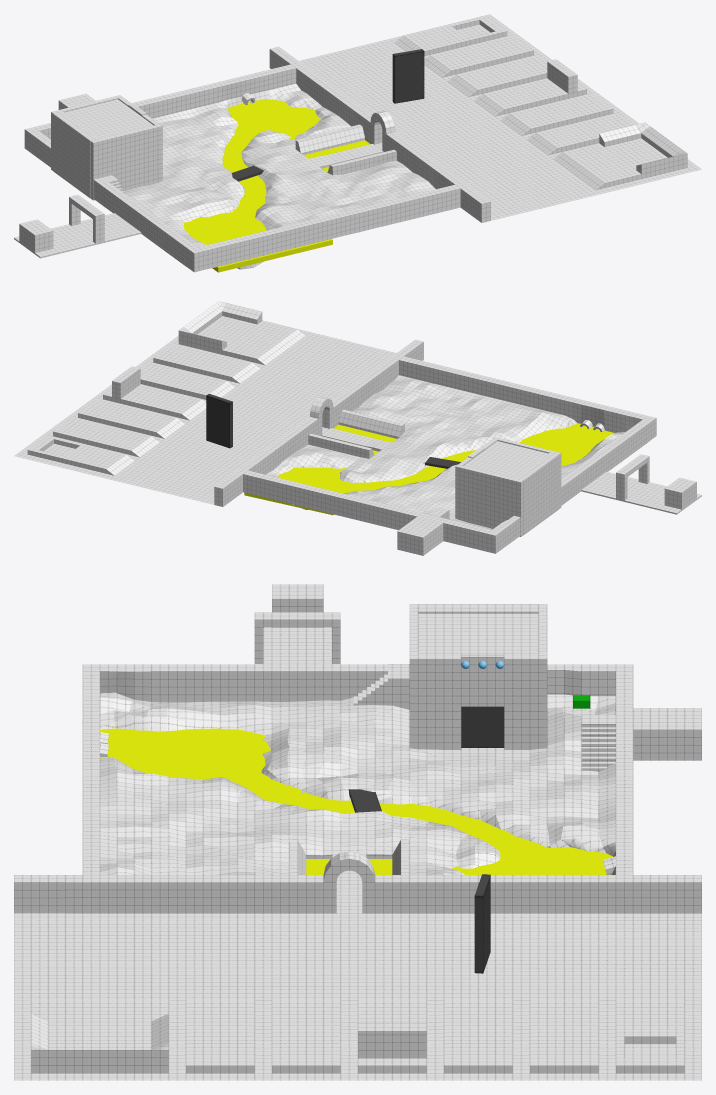
The model's file is ExampleStage1.fbx.
3 renders of one model, top to bottom at view 1: azimuth 30°, elevation 25°; view 2: azimuth 150°, elevation 25°; view 3: azimuth 270°, elevation 25°, orthographic. The views are drawn at different scales.
Visible parts, largest first — view 1: Level, Block 1x1y1z.005, Cube.012, Block 1x1y1z.001, Cube.014, Block 1x1y1z.006, Cube.015, Cube.013, Block 1x1y1z; view 2: Level, Block 1x1y1z, Block 1x1y1z.001, Cube.012, Block 1x1y1z.006, Cube.014, Cube.015, Cube.013, Block 1x1y1z.005; view 3: Level, Cube.012, Block 1x1y1z.006, Block 1x1y1z.002, Cube.014, Block 1x1y1z.003, Cube.013, Block 1x1y1z.004, Stairs.001, Cube, Stairs, Cube.015 (+4 smaller).
Boxes of the visible parts, x1,y1,x2,y2 form: Level: (14,14,701,272); Block 1x1y1z.005: (90,124,162,200); Cube.012: (184,193,332,272); Block 1x1y1z.001: (53,111,99,198); Cube.014: (227,99,321,139); Block 1x1y1z.006: (64,99,153,138); Cube.015: (392,49,424,103); Cube.013: (222,129,303,196); Block 1x1y1z: (51,95,122,170); Level: (14,301,701,555); Block 1x1y1z: (455,464,523,536); Block 1x1y1z.001: (515,453,558,534); Cube.012: (471,423,614,466); Block 1x1y1z.006: (464,441,548,478); Cube.014: (244,467,362,515); Cube.015: (206,394,232,448); Cube.013: (324,450,472,491); Block 1x1y1z.005: (493,437,561,508); Level: (14,584,701,1080); Cube.012: (100,728,301,804); Block 1x1y1z.006: (418,613,538,655); Block 1x1y1z.002: (418,655,461,749); Cube.014: (478,841,612,874); Block 1x1y1z.003: (504,655,538,749); Cube.013: (285,792,529,874); Block 1x1y1z.004: (461,654,504,706); Stairs.001: (581,715,615,771); Cube: (461,706,504,747); Stairs: (353,664,409,709); Cube.015: (474,874,490,973).
Size of the model in its own units: 128 by 15.32 by 80.
6 materials, 4 textured.
